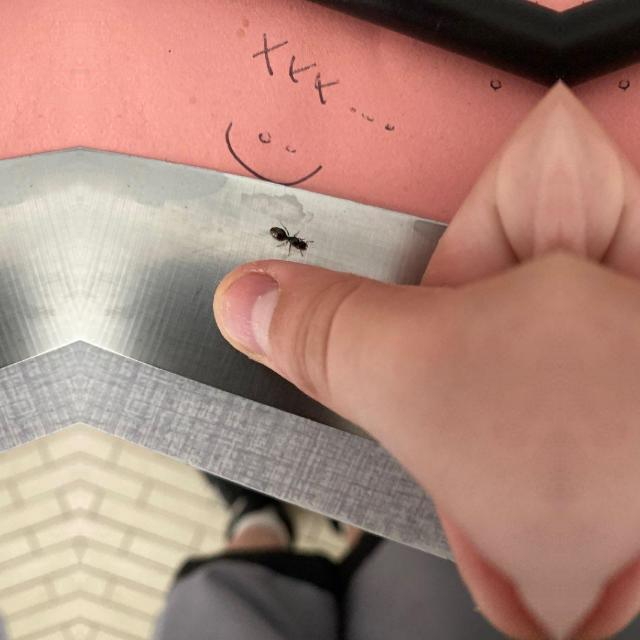Tetramorium: (268, 218, 310, 256)
